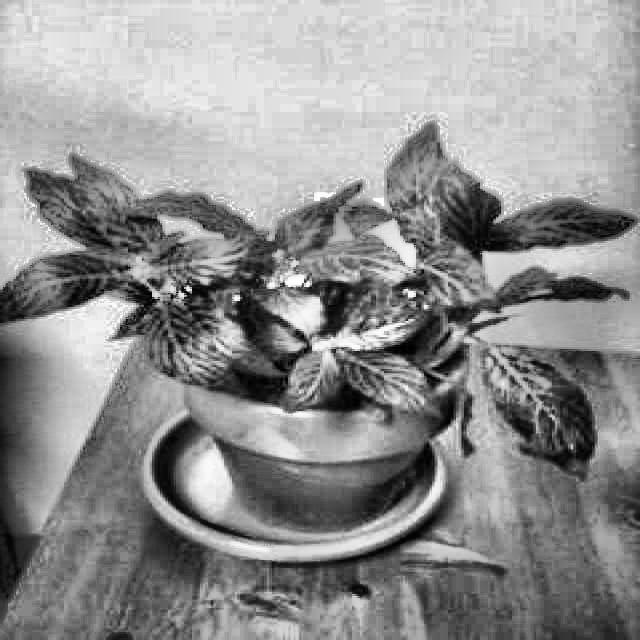plants: (19, 120, 634, 590), (401, 543, 518, 589), (444, 390, 492, 464)
